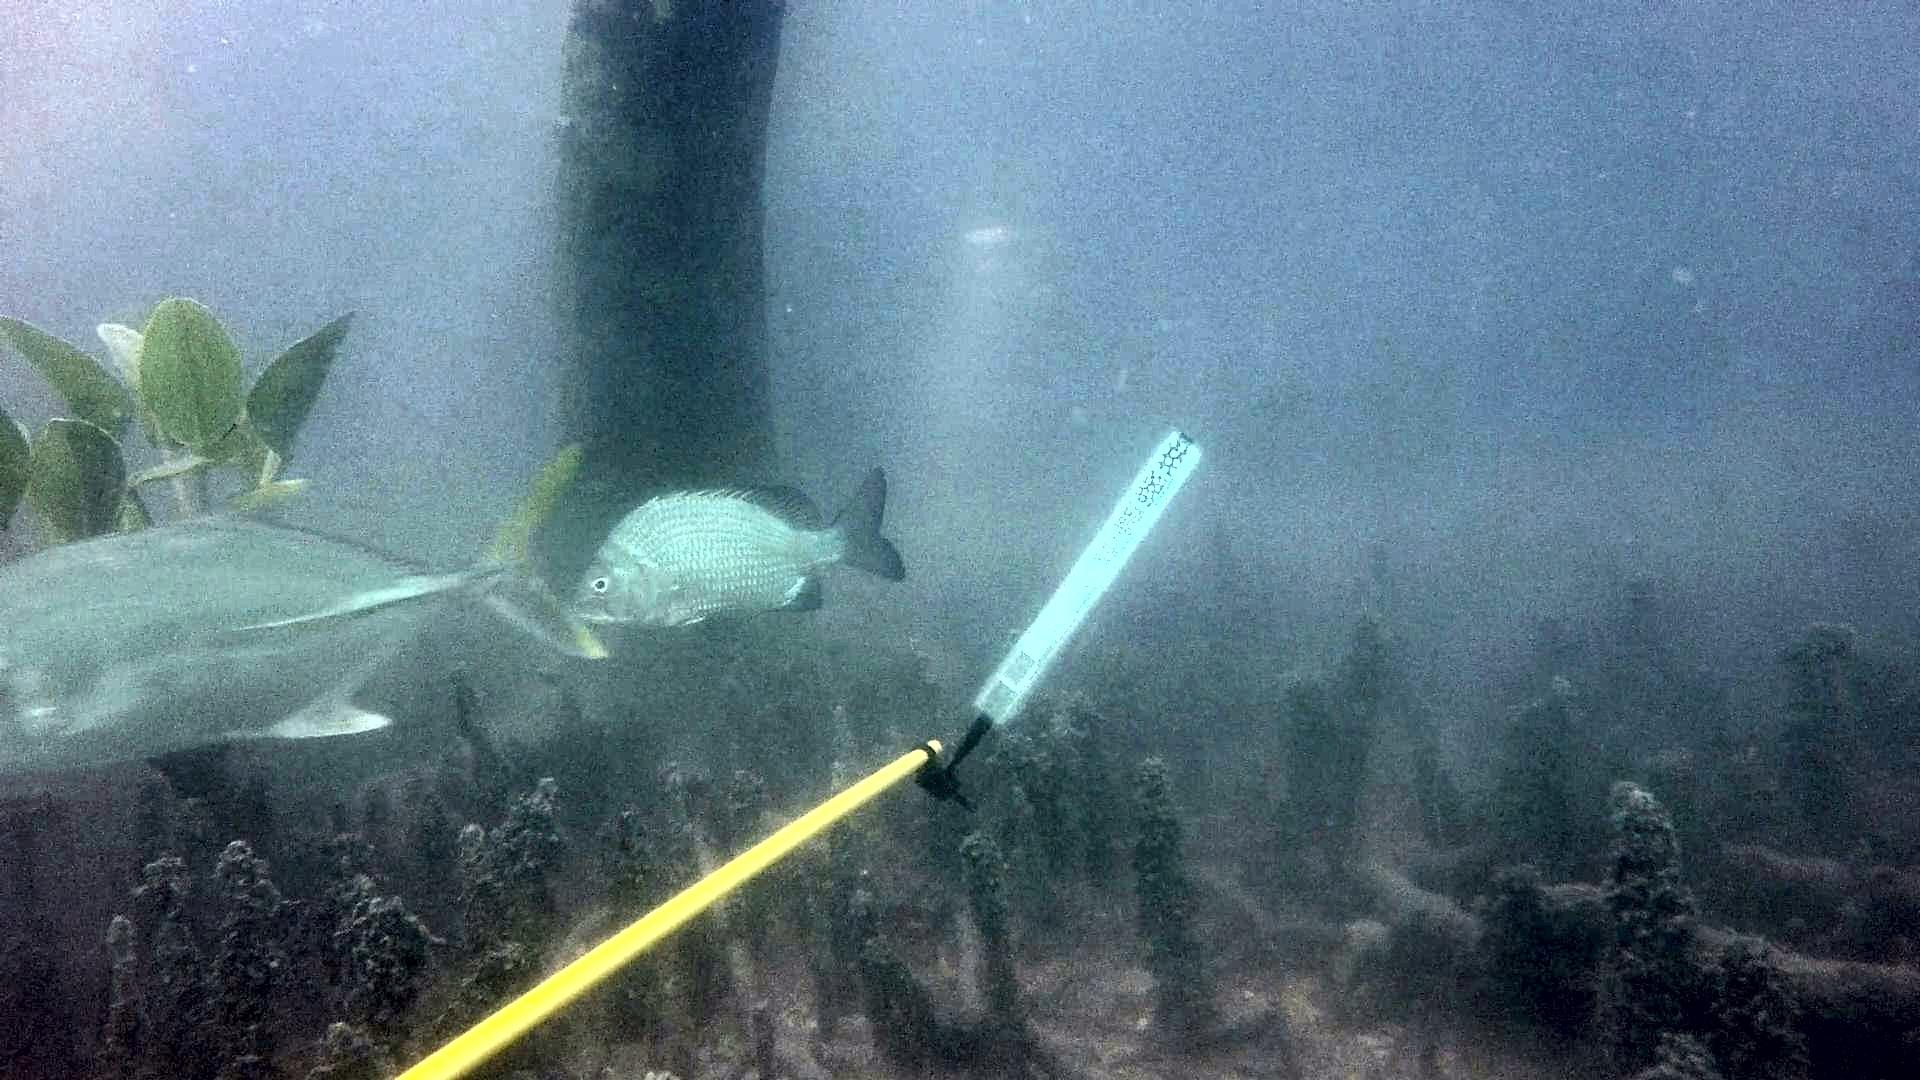acanthopagrus palmaris: (566, 460, 913, 641)
caranx: (0, 430, 613, 791)
